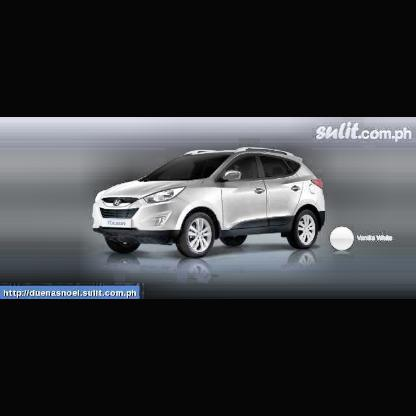Hyundai Tucson SUV 2012: (93, 149, 326, 260)
